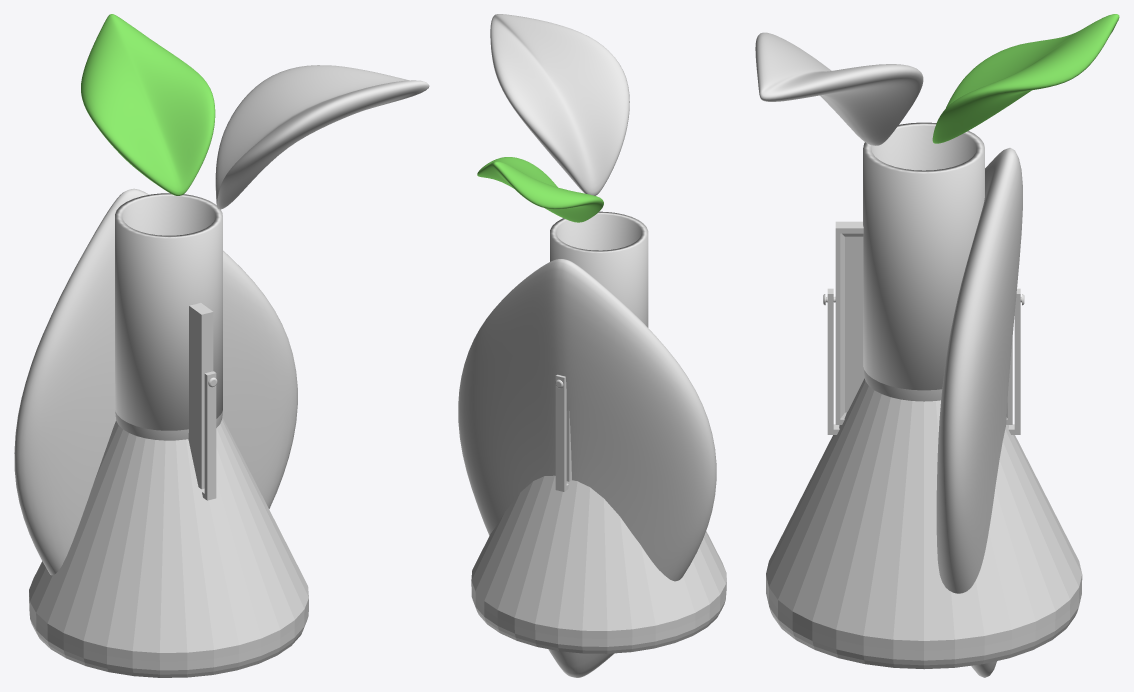
Rendered from glassware.fbx.
3 views of the same model, side by side, from view 1: azimuth 30°, elevation 25°; view 2: azimuth 150°, elevation 25°; view 3: azimuth 270°, elevation 25° (orthographic). The views are drawn at different scales.
Parts seen in each view (by area): view 1: glassware1.001, leaf_BackUp, Cylinder.001, leaf2.001, leaf1.001, photoFrame, photoStand; view 2: leaf_BackUp, glassware1.001, leaf1.001, Cylinder.001, leaf2.001, photoStand; view 3: glassware1.001, Cylinder.001, leaf_BackUp, leaf1.001, leaf2.001, photoFrame, photoGlass, photoStand.
Part boxes in pixels (x1,y1,x2,y2): glassware1.001: (29,417,308,677); leaf_BackUp: (14,188,297,575); Cylinder.001: (115,193,222,440); leaf2.001: (81,14,215,195); leaf1.001: (215,65,429,209); photoFrame: (188,303,213,489); photoStand: (202,371,216,500); leaf_BackUp: (458,259,716,677); glassware1.001: (471,475,726,653); leaf1.001: (490,14,629,195); Cylinder.001: (550,211,648,327); leaf2.001: (477,157,603,222); photoStand: (555,374,568,491); glassware1.001: (766,378,1082,669); Cylinder.001: (863,122,984,401); leaf_BackUp: (936,148,1022,677); leaf1.001: (755,32,923,145); leaf2.001: (932,14,1119,143); photoFrame: (835,221,1012,424); photoGlass: (847,241,864,411); photoStand: (827,288,1020,434).
Size of the model in its own units: 263 by 469 by 224.
